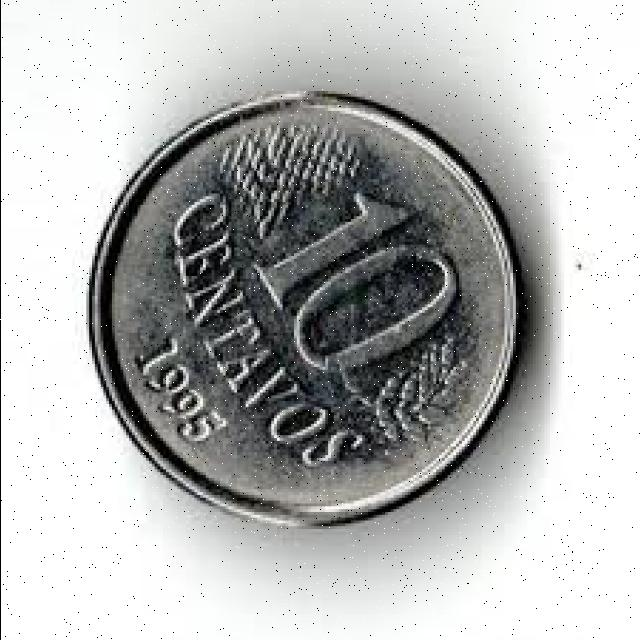10 cent: (106, 113, 501, 509)
